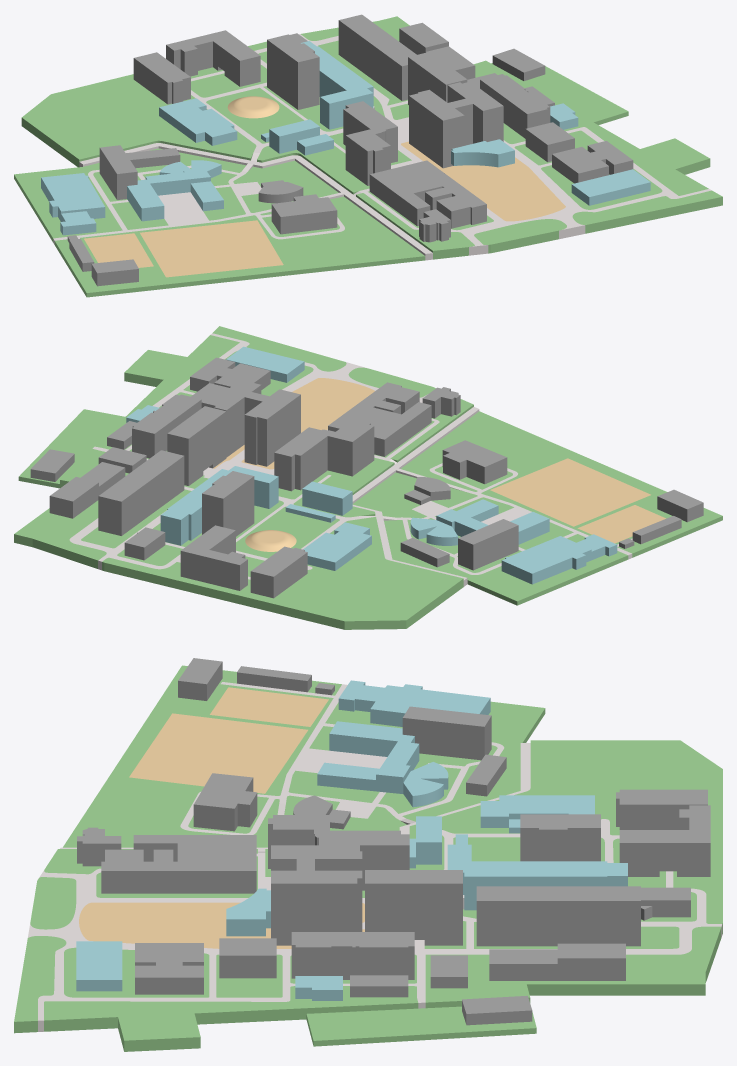
Rendered from 3dmap.fbx.
3 views of the same model, one above another, from view 1: azimuth 30°, elevation 25°; view 2: azimuth 150°, elevation 25°; view 3: azimuth 270°, elevation 25° (orthographic). The views are drawn at different scales.
Parts seen in each view (by area): view 1: ____15*3*4, ____16*16, ____16*2, ____53_(1), ____43, ____10, ____12, ____16*7, ____18, ____15, ____39, ____25 (+42 smaller); view 2: ____16*16, ____16*2, ____15*3*4, ____43, ____10, ____39, ____18, ____53_(1), ____15*3*1, ____12, ____14, ____25 (+41 smaller); view 3: ____16*2, ____16*16, ____15*3*4, ____53_(1), ____18, ____43, ____12, ____10, ____11, ____16*7, ____04, ____20 (+41 smaller).
Boxes of the visible parts, x1=… form: ____15*3*4: x1=54, y1=196, x2=425, y2=297; ____16*16: x1=21, y1=41, x2=266, y2=167; ____16*2: x1=301, y1=16, x2=710, y2=195; ____53_(1): x1=191, y1=34, x2=711, y2=255; ____43: x1=140, y1=220, x2=283, y2=277; ____10: x1=409, y1=81, x2=503, y2=168; ____12: x1=369, y1=160, x2=486, y2=228; ____16*7: x1=401, y1=141, x2=565, y2=221; ____18: x1=338, y1=14, x2=416, y2=100; ____15: x1=53, y1=163, x2=344, y2=244; ____39: x1=343, y1=101, x2=397, y2=185; ____25: x1=166, y1=30, x2=260, y2=86; ____16*16: x1=102, y1=517, x2=463, y2=629; ____16*2: x1=14, y1=335, x2=239, y2=568; ____15*3*4: x1=401, y1=411, x2=722, y2=557; ____43: x1=490, y1=458, x2=650, y2=526; ____10: x1=207, y1=380, x2=300, y2=466; ____39: x1=274, y1=420, x2=374, y2=491; ____18: x1=98, y1=450, x2=184, y2=535; ____53_(1): x1=69, y1=333, x2=439, y2=579; ____15*3*1: x1=384, y1=520, x2=628, y2=605; ____12: x1=328, y1=382, x2=431, y2=456; ____14: x1=501, y1=534, x2=617, y2=584; ____25: x1=180, y1=525, x2=247, y2=590; ____16*2: x1=44, y1=926, x2=721, y2=1051; ____16*16: x1=442, y1=740, x2=722, y2=934; ____15*3*4: x1=63, y1=665, x2=341, y2=847; ____53_(1): x1=28, y1=819, x2=722, y2=1031; ____18: x1=476, y1=886, x2=640, y2=946; ____43: x1=129, y1=713, x2=307, y2=793; ____12: x1=101, y1=835, x2=256, y2=893; ____10: x1=271, y1=845, x2=362, y2=945; ____11: x1=365, y1=870, x2=462, y2=945; ____16*7: x1=79, y1=902, x2=364, y2=948; ____04: x1=291, y1=932, x2=414, y2=979; ____20: x1=447, y1=844, x2=627, y2=910.
Bounding box in the file's own units: 7.25 × 0.65 × 5.7.
